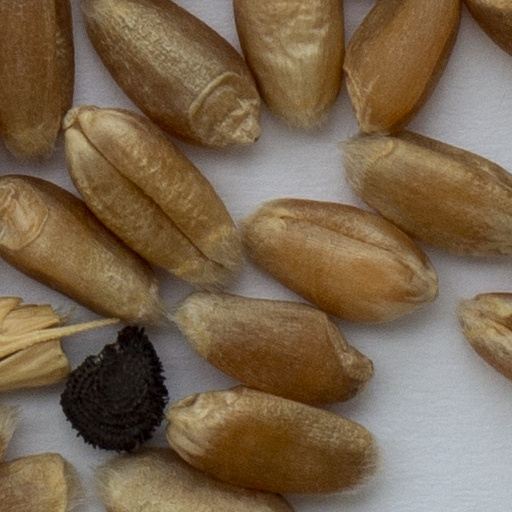Agrostemma-poly: (58, 326, 168, 451)
Peel-poly: (0, 295, 125, 394)
Wheat-grain-poly: (78, 0, 263, 146), (345, 0, 461, 131), (234, 0, 344, 128), (0, 0, 77, 161), (459, 291, 511, 381)
